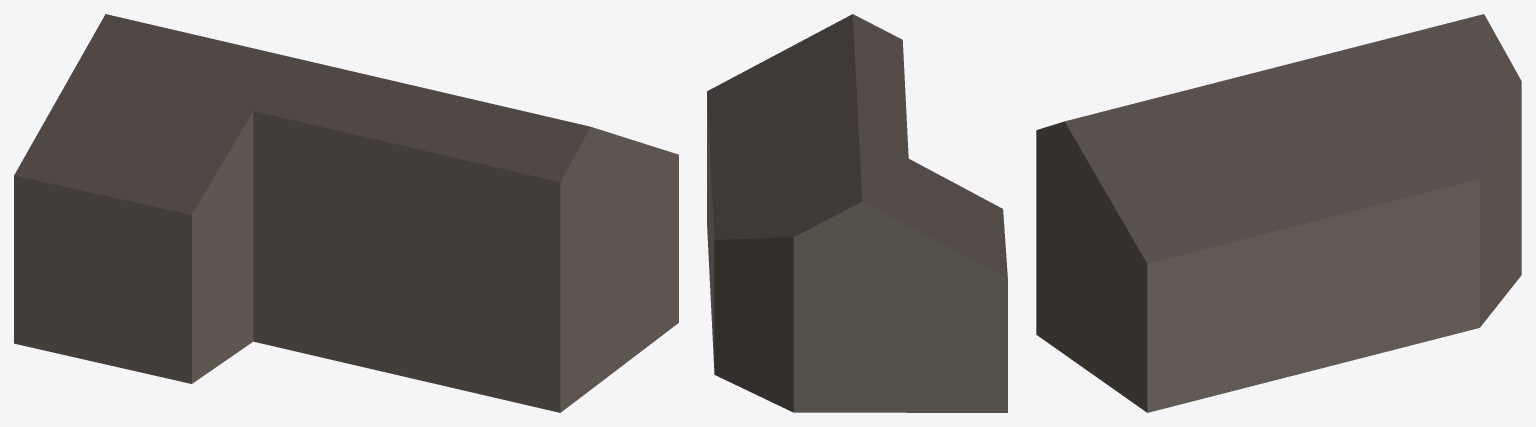
The picture shows the model from 3 angles, left to right: view 1: azimuth 30°, elevation 25°; view 2: azimuth 150°, elevation 25°; view 3: azimuth 270°, elevation 25°; orthographic projection. The views are drawn at different scales.
Visible parts, largest first — view 1: HP-w1197841104; view 2: HP-w1197841104; view 3: HP-w1197841104.
Part boxes in pixels (bbox=[...]): HP-w1197841104: bbox=[14, 14, 678, 412]; HP-w1197841104: bbox=[707, 14, 1007, 412]; HP-w1197841104: bbox=[1036, 14, 1521, 412].
Size of the model in its own units: 19.41 by 9.39 by 17.72.
